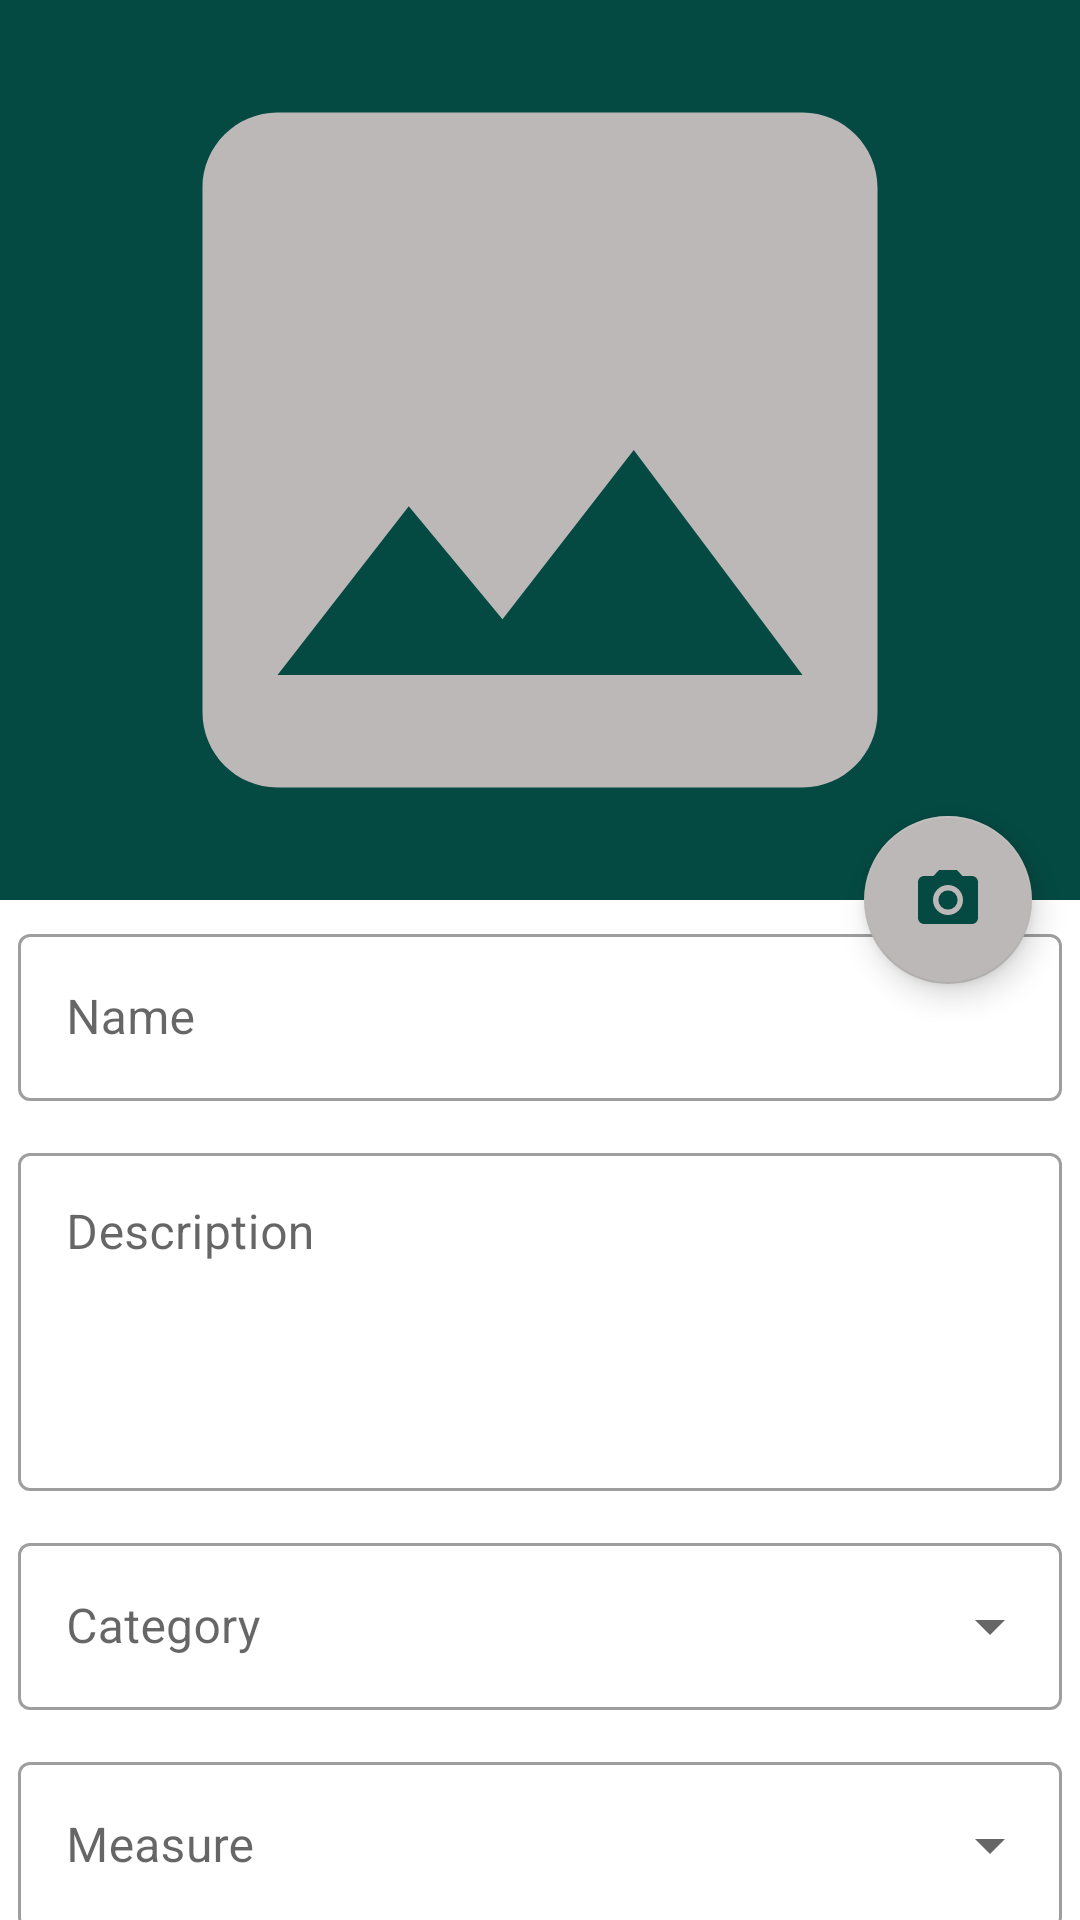

Icon click points for this 1080*1920 phone screenshot, format point (x, y):
photo camera: point (948, 900)
